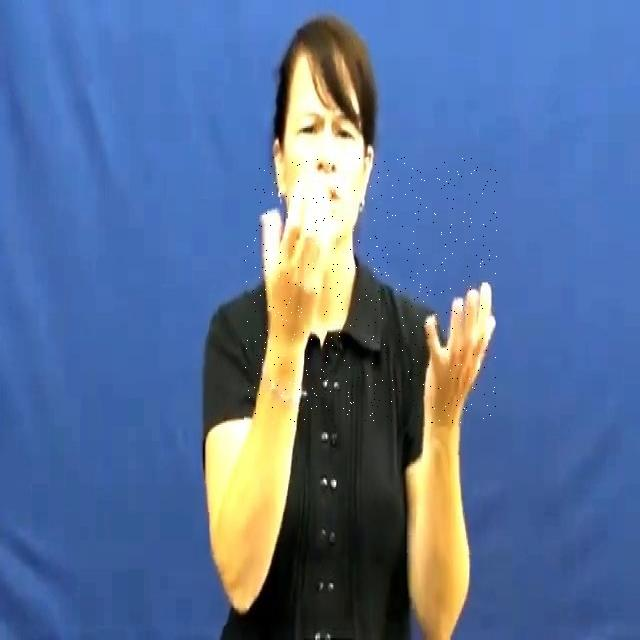menu: (244, 158, 498, 424)
